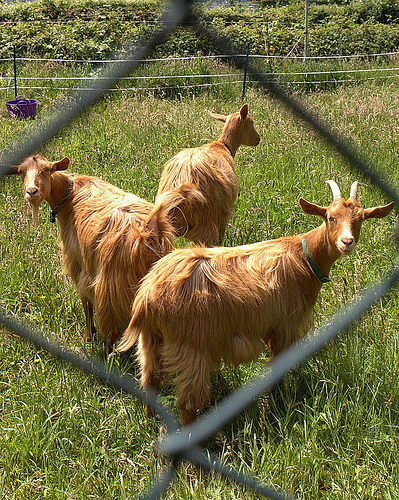goat: (112, 177, 395, 435), (1, 152, 198, 354), (154, 103, 264, 250)
